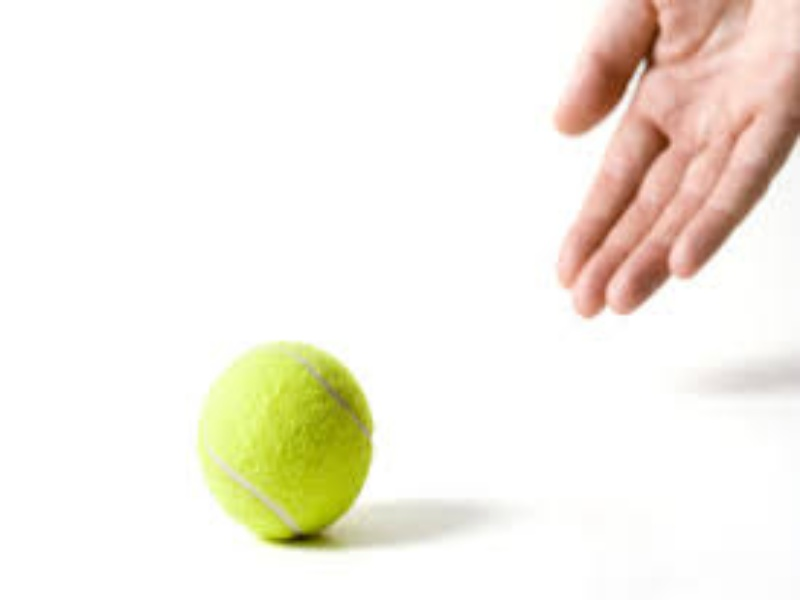tennis ball: (189, 336, 383, 550)
